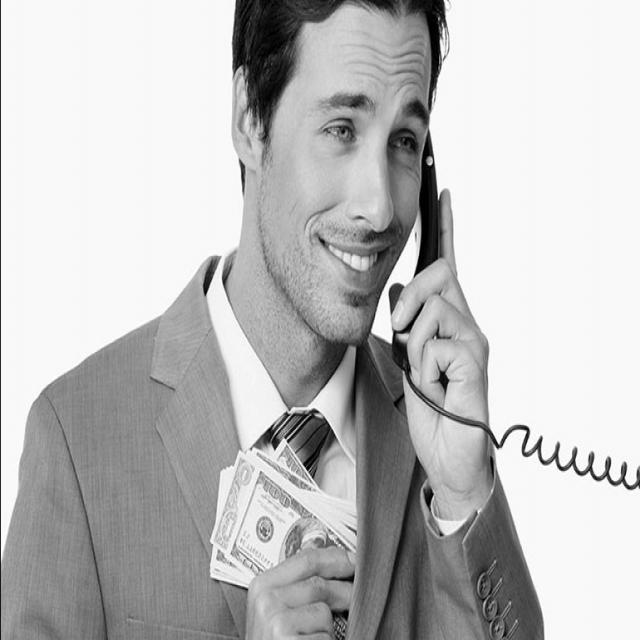phone: (370, 78, 506, 481)
